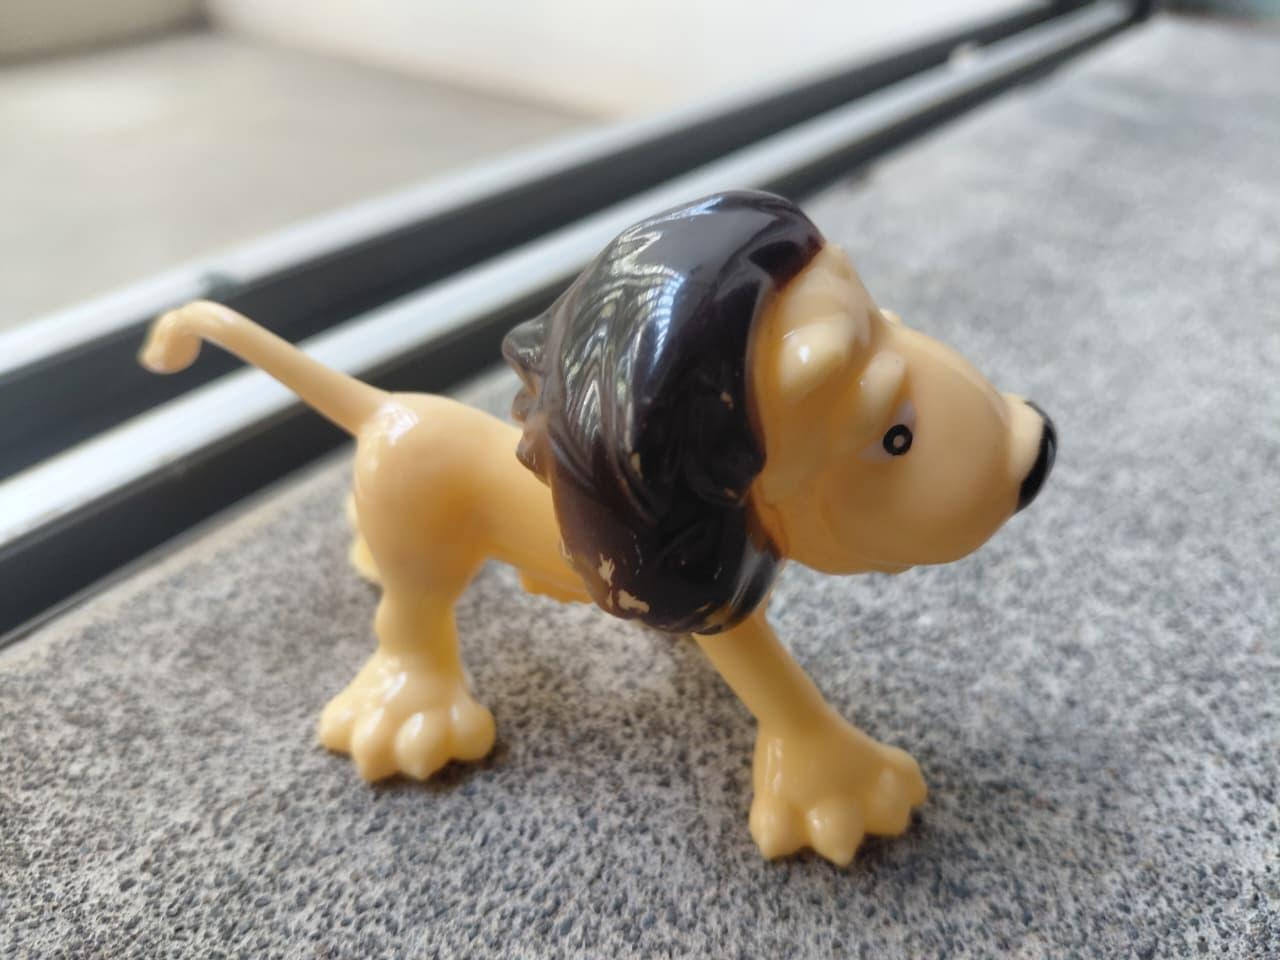lion: (104, 185, 1115, 879)
